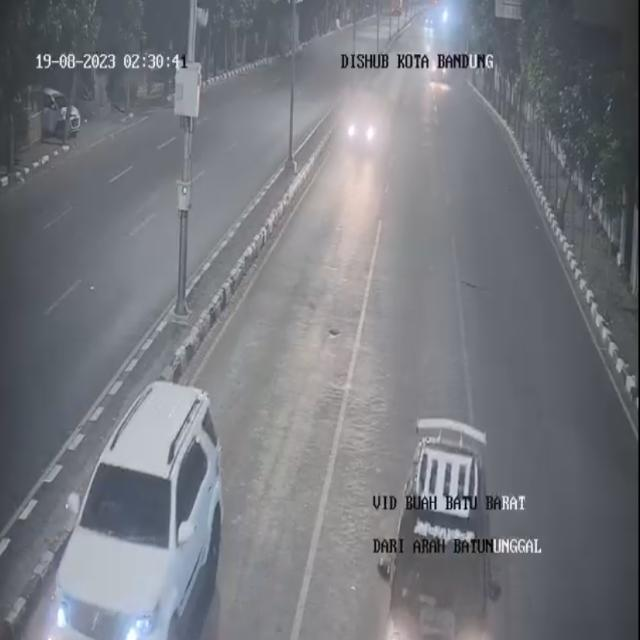cars: (43, 376, 229, 640), (377, 392, 503, 640)
